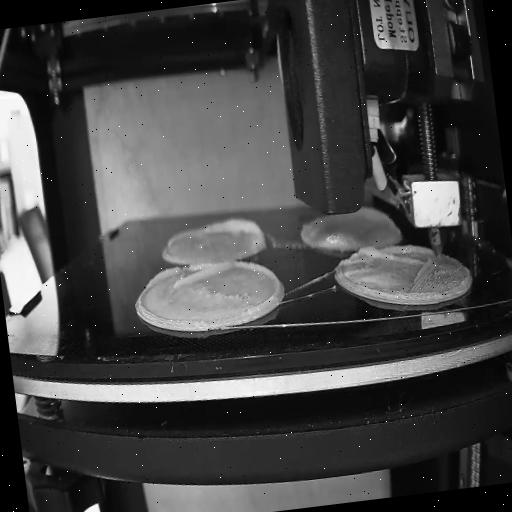over_extrusion: (232, 253, 284, 317), (142, 260, 232, 295), (202, 212, 268, 254), (354, 236, 412, 272), (414, 255, 436, 287)
